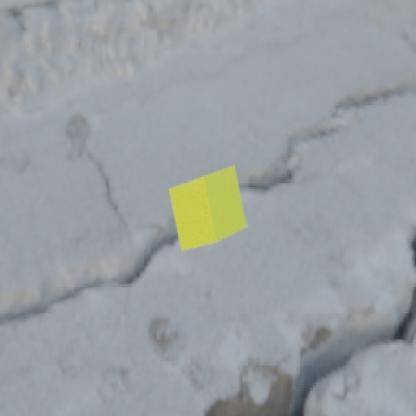cube: (168, 164, 246, 252)
